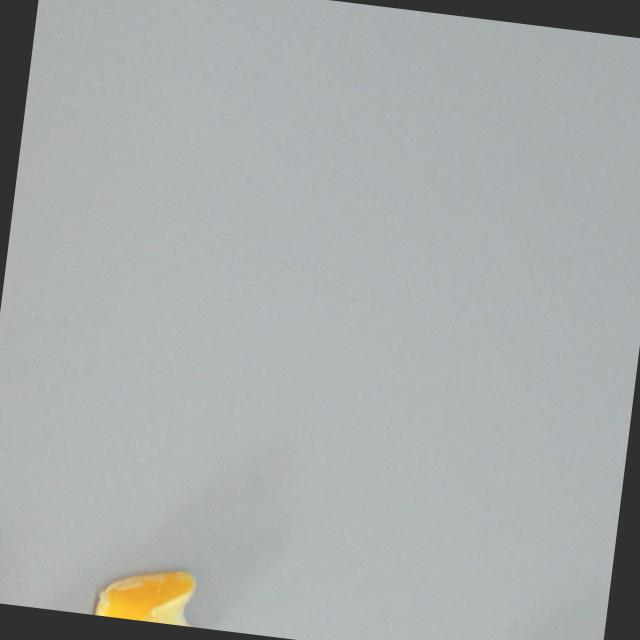pelicula: (88, 556, 218, 629)
